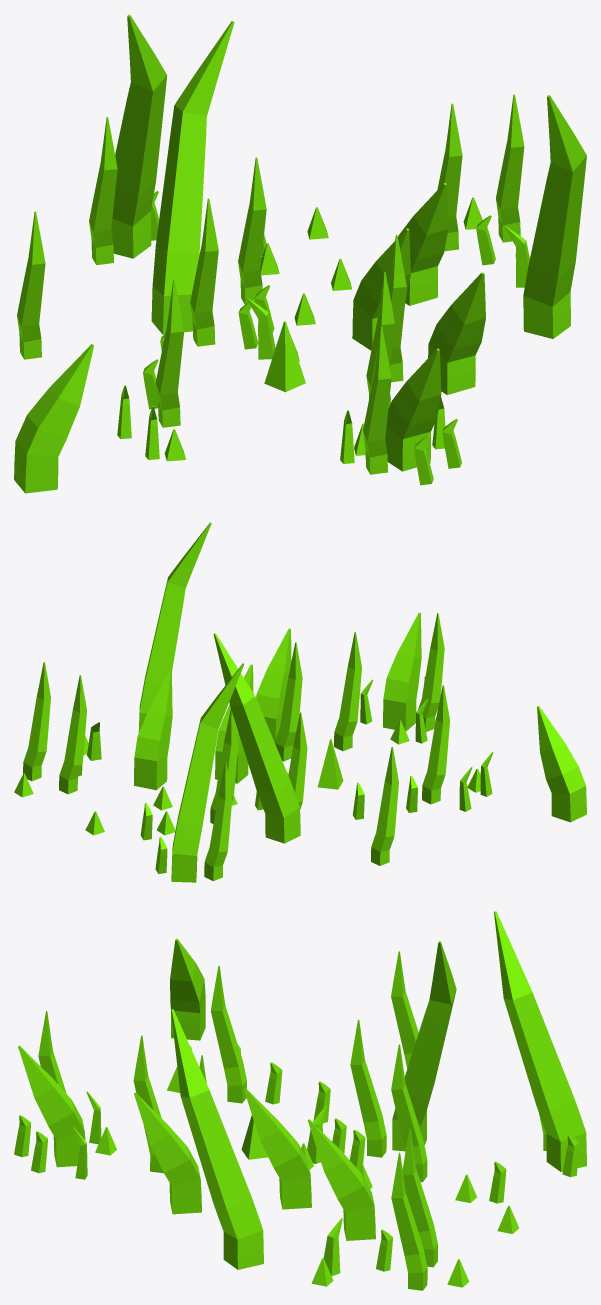
The model's file is GrassGroupV1.7.fbx.
The picture shows the model from 3 angles, top to bottom: view 1: azimuth 30°, elevation 25°; view 2: azimuth 150°, elevation 25°; view 3: azimuth 270°, elevation 25°; orthographic projection. The views are drawn at different scales.
Parts seen in each view (by area): view 1: Cube.009; view 2: Cube.009; view 3: Cube.009.
Boxes of the visible parts, bbox=[...] form: Cube.009: bbox=[14, 14, 586, 493]; Cube.009: bbox=[14, 522, 586, 882]; Cube.009: bbox=[14, 911, 586, 1290].
Size of the model in its own units: 2.23 by 0.9351 by 2.02.
